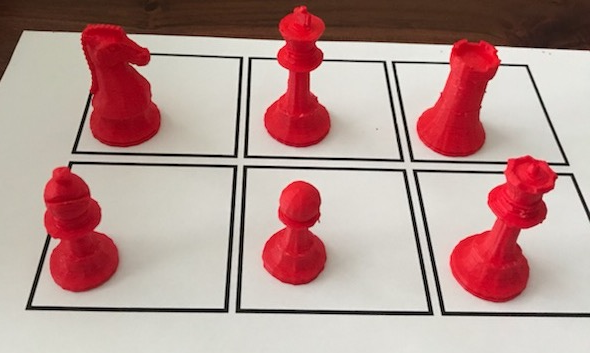Red Bishop: (24, 156, 141, 298)
Red Castle: (412, 39, 500, 157)
Red King: (442, 151, 562, 307), (254, 1, 354, 152)
Red Knight: (70, 21, 176, 149)
Red Pawn: (255, 176, 342, 289)
